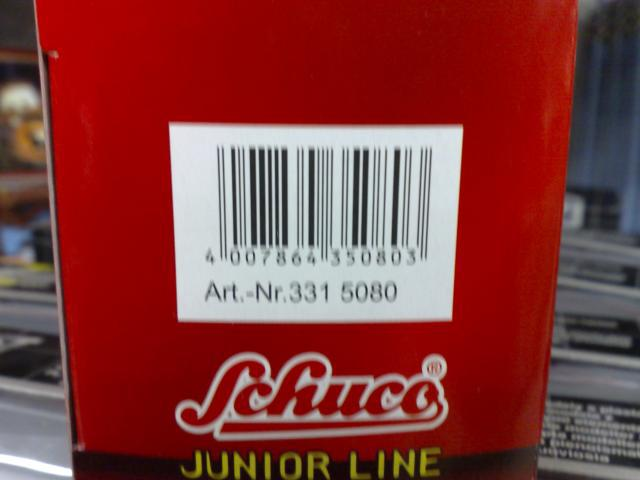Barkod: (213, 142, 433, 252)
